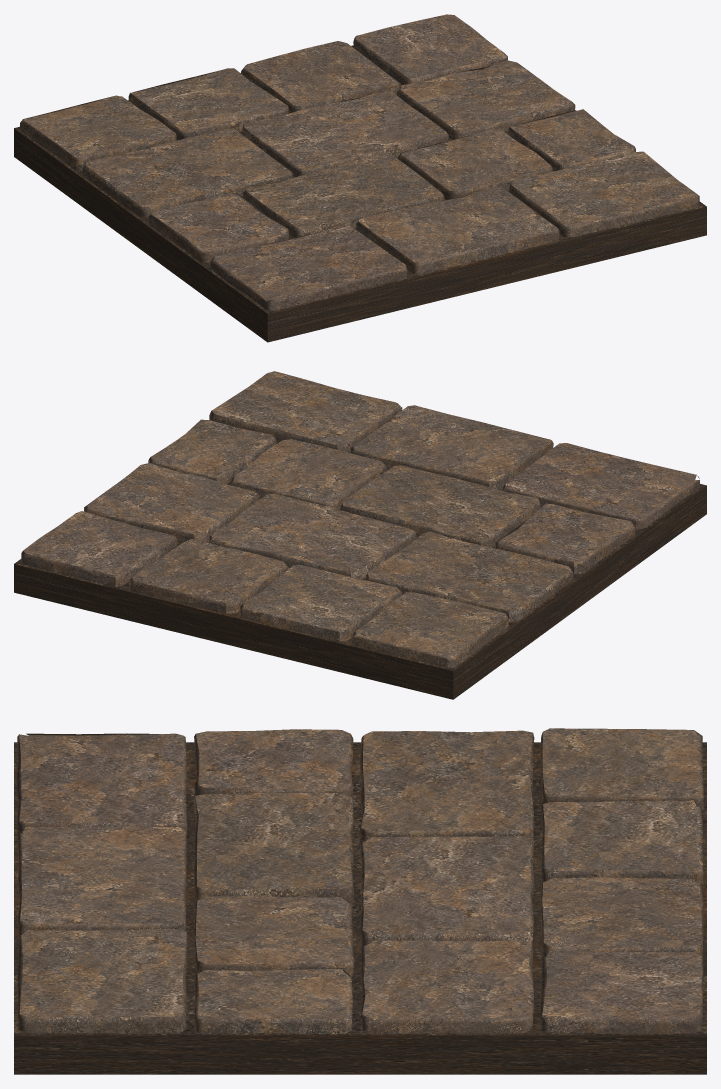
The model's file is source-mobile.glb.
The picture shows the model from 3 angles, top to bottom: view 1: azimuth 30°, elevation 25°; view 2: azimuth 150°, elevation 25°; view 3: azimuth 270°, elevation 25°; orthographic projection. The views are drawn at different scales.
Visible parts, largest first — view 1: stone_floor_2m_LOD1; view 2: stone_floor_2m_LOD1; view 3: stone_floor_2m_LOD1.
Part boxes in pixels (left/top/right/bottom): stone_floor_2m_LOD1: left=14, top=14, right=706, bottom=342; stone_floor_2m_LOD1: left=14, top=371, right=706, bottom=699; stone_floor_2m_LOD1: left=14, top=728, right=706, bottom=1074.
Size of the model in its own units: 2 by 0.1785 by 2.
Materials: 1 (1 with a texture image).
